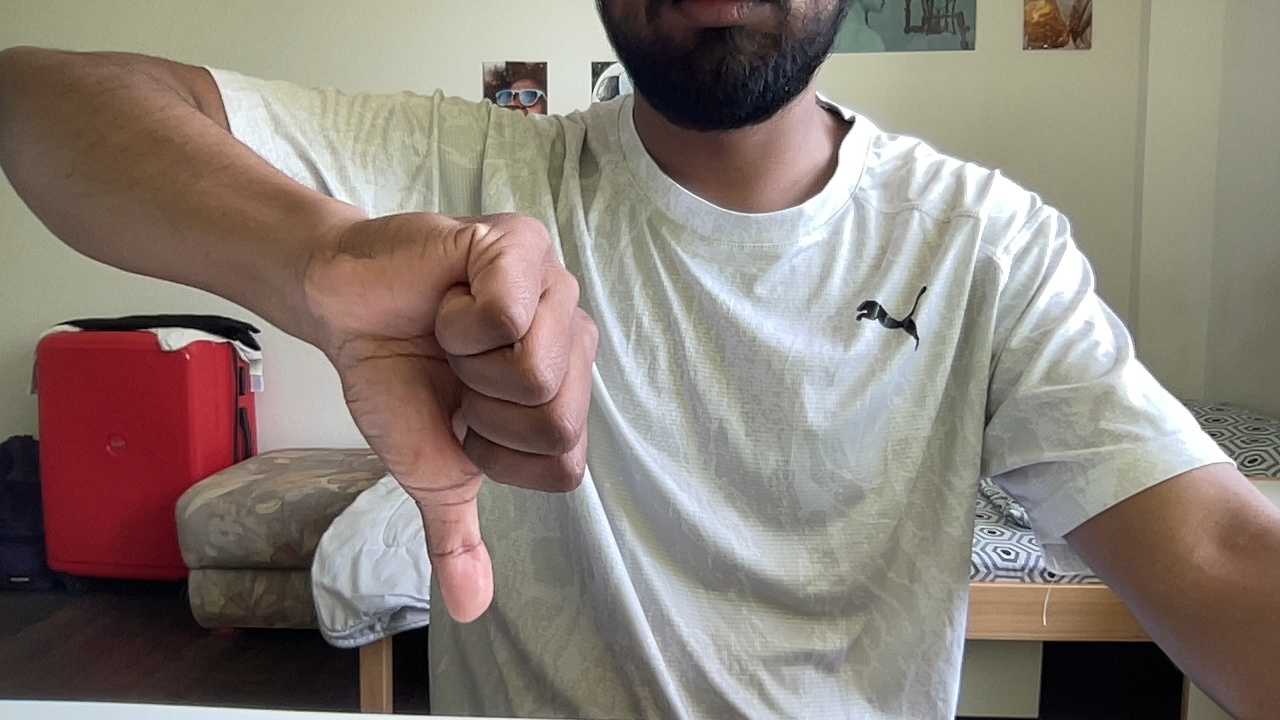ThumbsDown: (309, 210, 602, 626)
